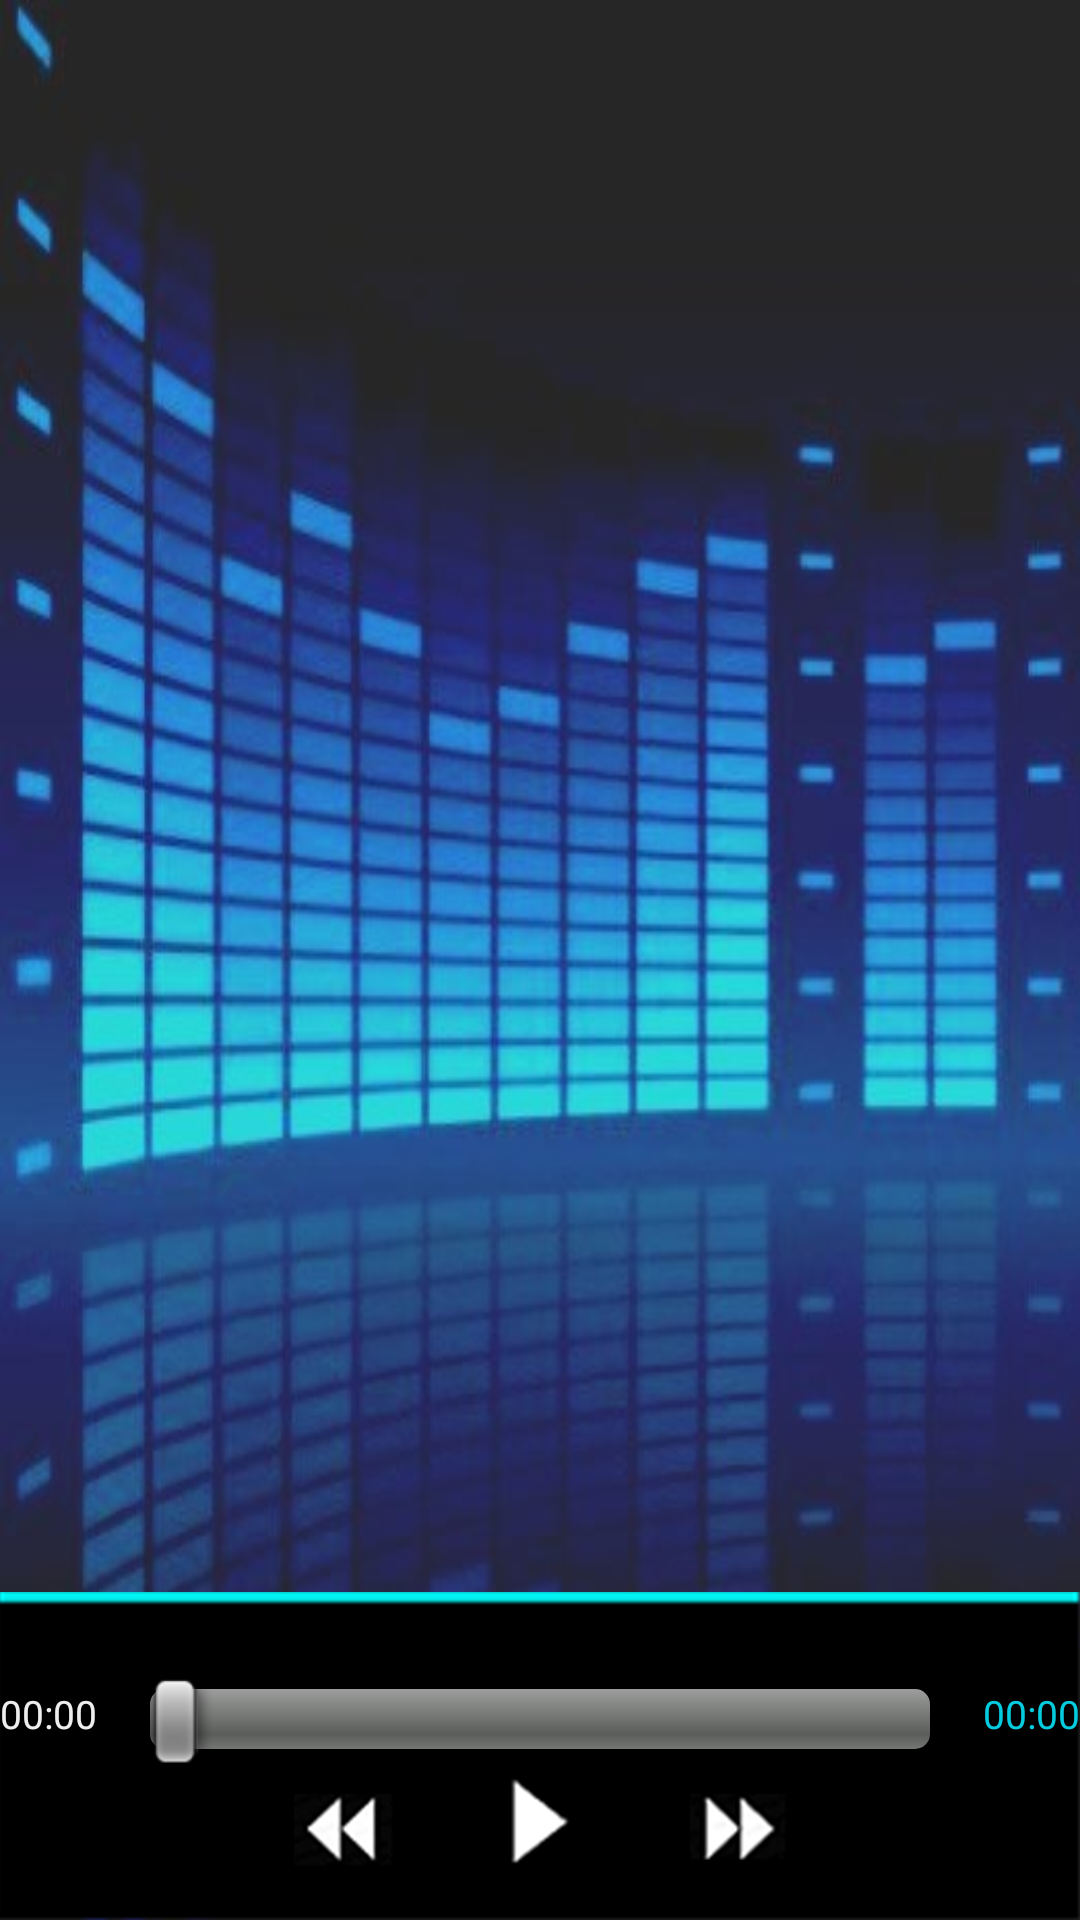

Icons on this 1080 x 1920 Android screen, each with the point to tap as point (x, y):
Backward: point (341, 1829)
Forward: point (739, 1828)
Play: point (539, 1821)
